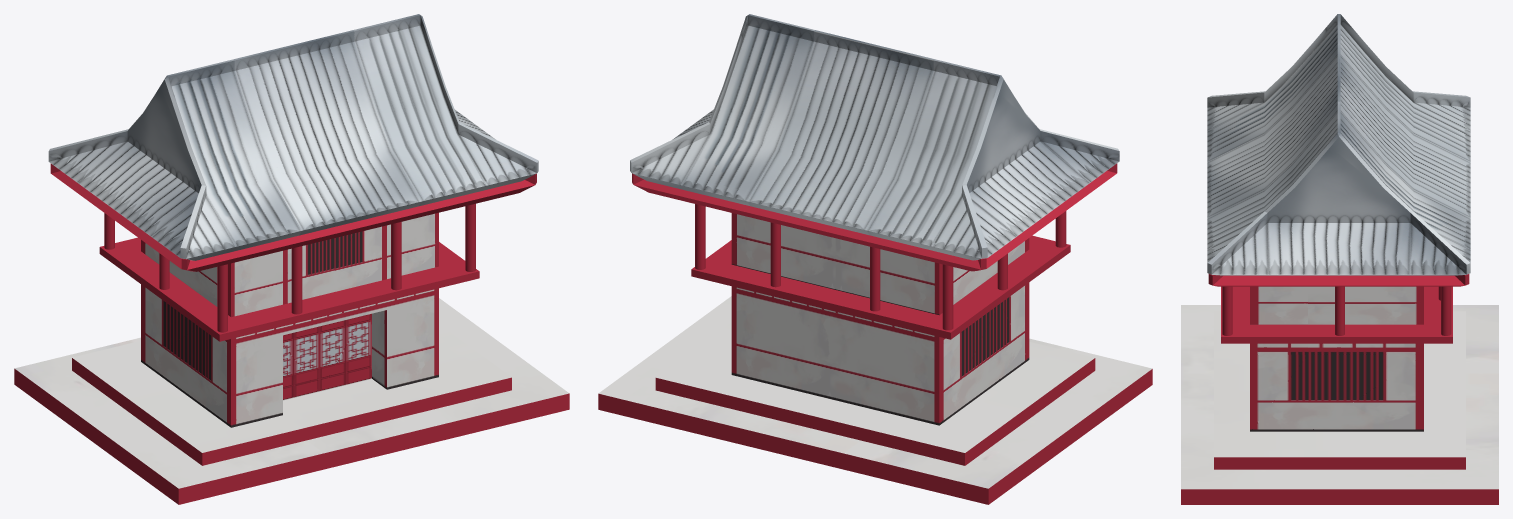
File: Shrine 1 Dark.fbx
3 renders of one model, left to right at view 1: azimuth 30°, elevation 25°; view 2: azimuth 150°, elevation 25°; view 3: azimuth 270°, elevation 25°, orthographic. The views are drawn at different scales.
Parts seen in each view (by area): view 1: Plane029; view 2: Plane029; view 3: Plane029.
Boxes of the visible parts, x1,y1,x2,y2 form: Plane029: (14,14,569,504); Plane029: (598,14,1152,504); Plane029: (1181,14,1498,504).
Size of the model in its own units: 79.15 by 68.09 by 57.68.
Materials: 4 (4 with a texture image).
